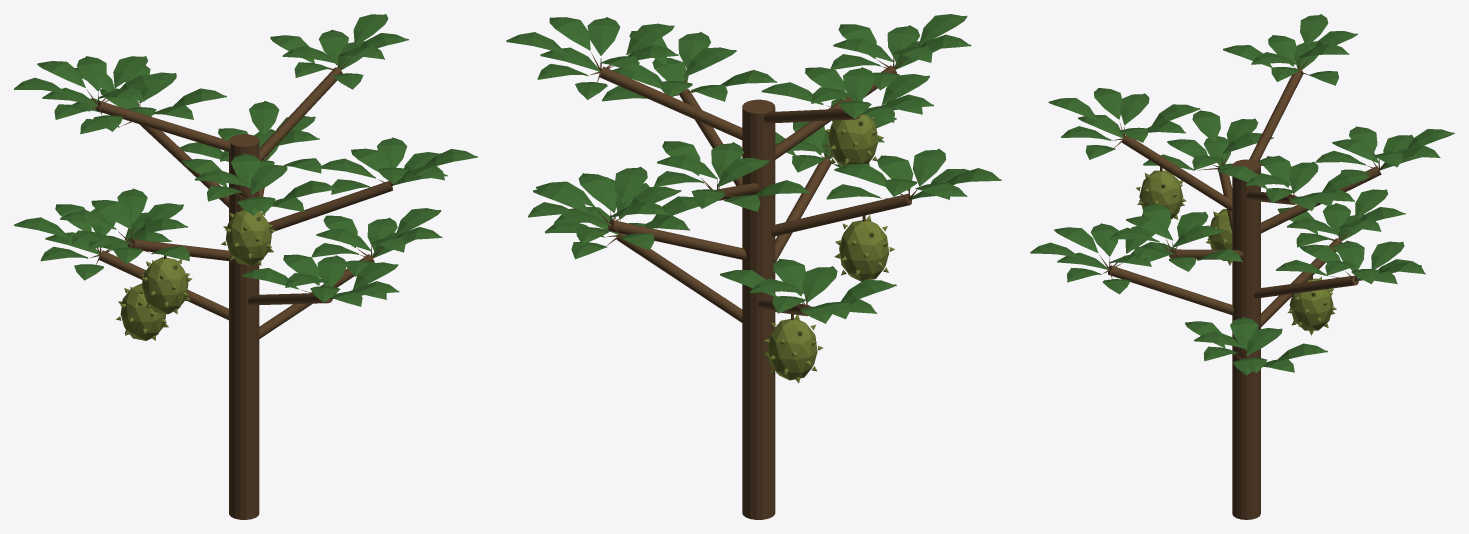
Rendered from source-edit.glb.
The picture shows the model from 3 angles, left to right: view 1: azimuth 30°, elevation 25°; view 2: azimuth 150°, elevation 25°; view 3: azimuth 270°, elevation 25°; orthographic projection. The views are drawn at different scales.
Visible parts, largest first — view 1: DURIAN_Trunk, DURIAN_Fruit.002, DURIAN_Fruit, DURIAN_Branch.009, DURIAN_Fruit.001, DURIAN_Branch.005, DURIAN_Branch.008, DURIAN_Branch.001, DURIAN_Branch.004, DURIAN_Branch, DURIAN_Branch.002, DURIAN_Branch.006 (+19 smaller); view 2: DURIAN_Trunk, DURIAN_Fruit.001, DURIAN_Fruit.002, DURIAN_Fruit, DURIAN_Branch.008, DURIAN_Branch.004, DURIAN_Branch, DURIAN_Branch.003, DURIAN_Branch.002, DURIAN_Branch.009, DURIAN_Branch.007, DURIAN_Leaf.079 (+27 smaller); view 3: DURIAN_Trunk, DURIAN_Fruit.001, DURIAN_Branch.002, DURIAN_Fruit, DURIAN_Branch.007, DURIAN_Branch.003, DURIAN_Branch.009, DURIAN_Branch.006, DURIAN_Fruit.002, DURIAN_Branch.001, DURIAN_Leaf.045, DURIAN_Leaf (+21 smaller).
Boxes of the visible parts, <box> form: DURIAN_Trunk: <box>229,134,259,519</box>; DURIAN_Fruit.002: <box>142,257,188,314</box>; DURIAN_Fruit: <box>226,209,271,265</box>; DURIAN_Branch.009: <box>96,101,230,151</box>; DURIAN_Fruit.001: <box>120,283,165,340</box>; DURIAN_Branch.005: <box>268,181,392,231</box>; DURIAN_Branch.008: <box>259,67,342,161</box>; DURIAN_Branch.001: <box>99,250,228,320</box>; DURIAN_Branch.004: <box>128,239,235,261</box>; DURIAN_Branch: <box>259,254,374,338</box>; DURIAN_Branch.002: <box>248,293,332,305</box>; DURIAN_Branch.006: <box>139,124,228,207</box>; DURIAN_Trunk: <box>742,99,775,519</box>; DURIAN_Fruit.001: <box>767,318,817,380</box>; DURIAN_Fruit.002: <box>839,219,889,281</box>; DURIAN_Fruit: <box>828,114,878,166</box>; DURIAN_Branch.008: <box>600,66,742,140</box>; DURIAN_Branch.004: <box>771,194,911,236</box>; DURIAN_Branch: <box>616,233,742,322</box>; DURIAN_Branch.003: <box>608,220,746,260</box>; DURIAN_Branch.002: <box>775,157,831,261</box>; DURIAN_Branch.009: <box>763,108,860,123</box>; DURIAN_Branch.007: <box>775,65,897,159</box>; DURIAN_Leaf.079: <box>587,17,620,55</box>; DURIAN_Trunk: <box>1232,159,1260,519</box>; DURIAN_Fruit.001: <box>1289,278,1333,330</box>; DURIAN_Branch.002: <box>1108,265,1233,315</box>; DURIAN_Fruit: <box>1139,170,1183,219</box>; DURIAN_Branch.007: <box>1122,135,1232,211</box>; DURIAN_Branch.003: <box>1254,275,1358,298</box>; DURIAN_Branch.009: <box>1249,68,1303,162</box>; DURIAN_Branch.006: <box>1260,166,1381,233</box>; DURIAN_Fruit.002: <box>1208,209,1232,260</box>; DURIAN_Branch.001: <box>1261,238,1342,326</box>; DURIAN_Leaf.045: <box>1192,110,1220,142</box>; DURIAN_Leaf: <box>1300,14,1328,46</box>.
Size of the model in its own units: 3.92 by 4.18 by 3.86.
